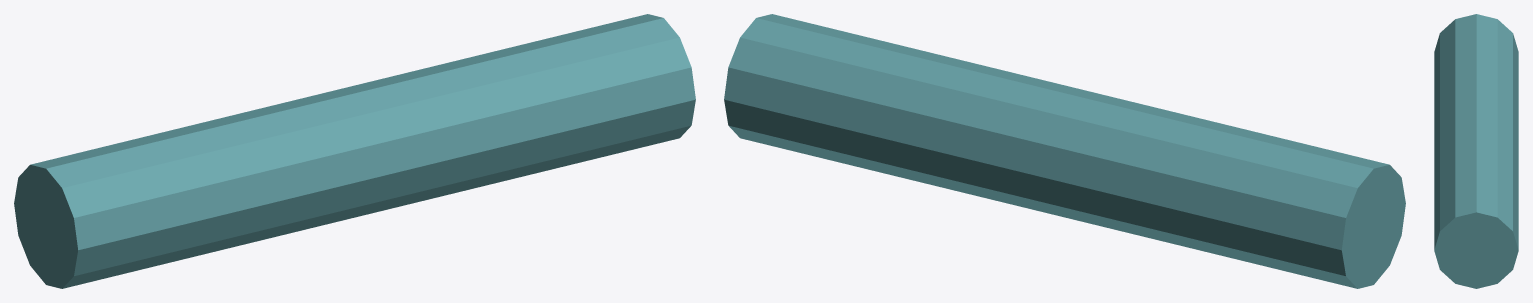
The model's file is SM_AF_SplineSegment.glb.
The picture shows the model from 3 angles, left to right: view 1: azimuth 30°, elevation 25°; view 2: azimuth 150°, elevation 25°; view 3: azimuth 270°, elevation 25°; orthographic projection. The views are drawn at different scales.
Parts seen in each view (by area): view 1: SM_AF_SplineSegment; view 2: SM_AF_SplineSegment; view 3: SM_AF_SplineSegment.
Part boxes in pixels (x1=…): SM_AF_SplineSegment: x1=14, y1=14, x2=695, y2=288; SM_AF_SplineSegment: x1=724, y1=14, x2=1405, y2=288; SM_AF_SplineSegment: x1=1434, y1=14, x2=1518, y2=288.
Bounding box in the file's own units: 1 × 0.18 × 0.18.
